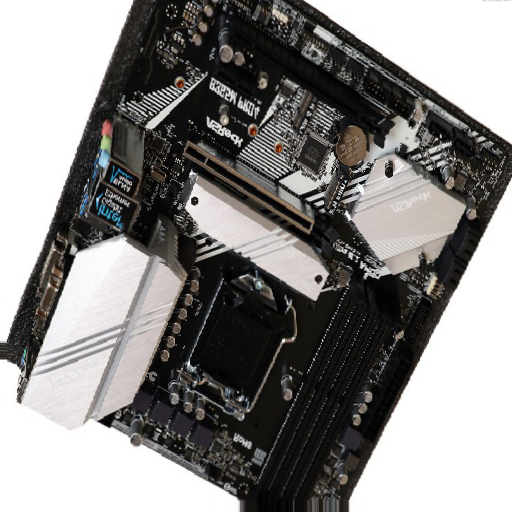CPU: (180, 274, 296, 422)
GPU: (227, 11, 394, 138), (182, 140, 315, 235)
MOTHERBOARD: (1, 1, 508, 511)
RAM: (238, 261, 420, 512)
SSD: (322, 171, 355, 216), (292, 91, 318, 137)
